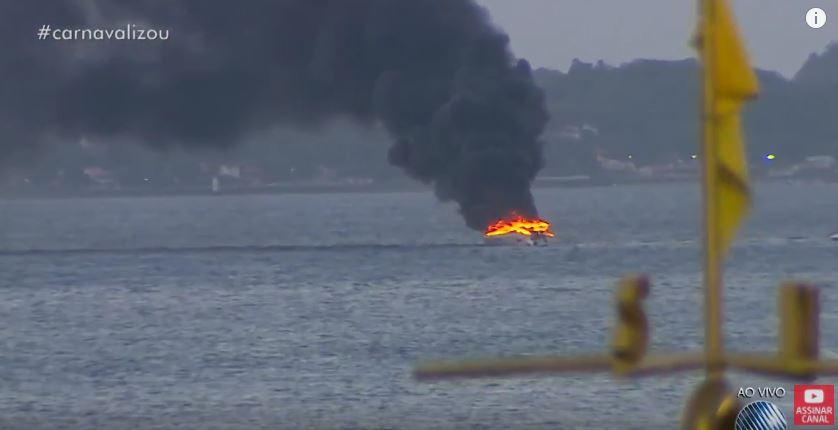fire: (492, 216, 553, 237)
smoke: (398, 6, 514, 183)
